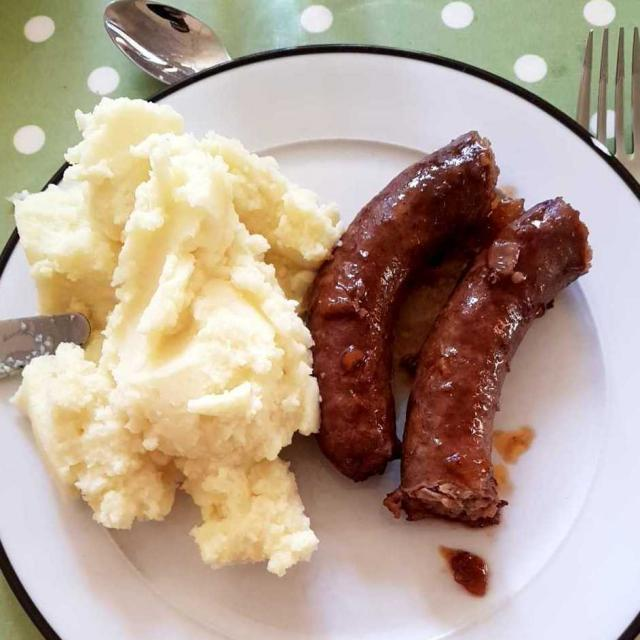mashed-potatoes: (47, 131, 289, 526)
sausage: (326, 120, 607, 538)
